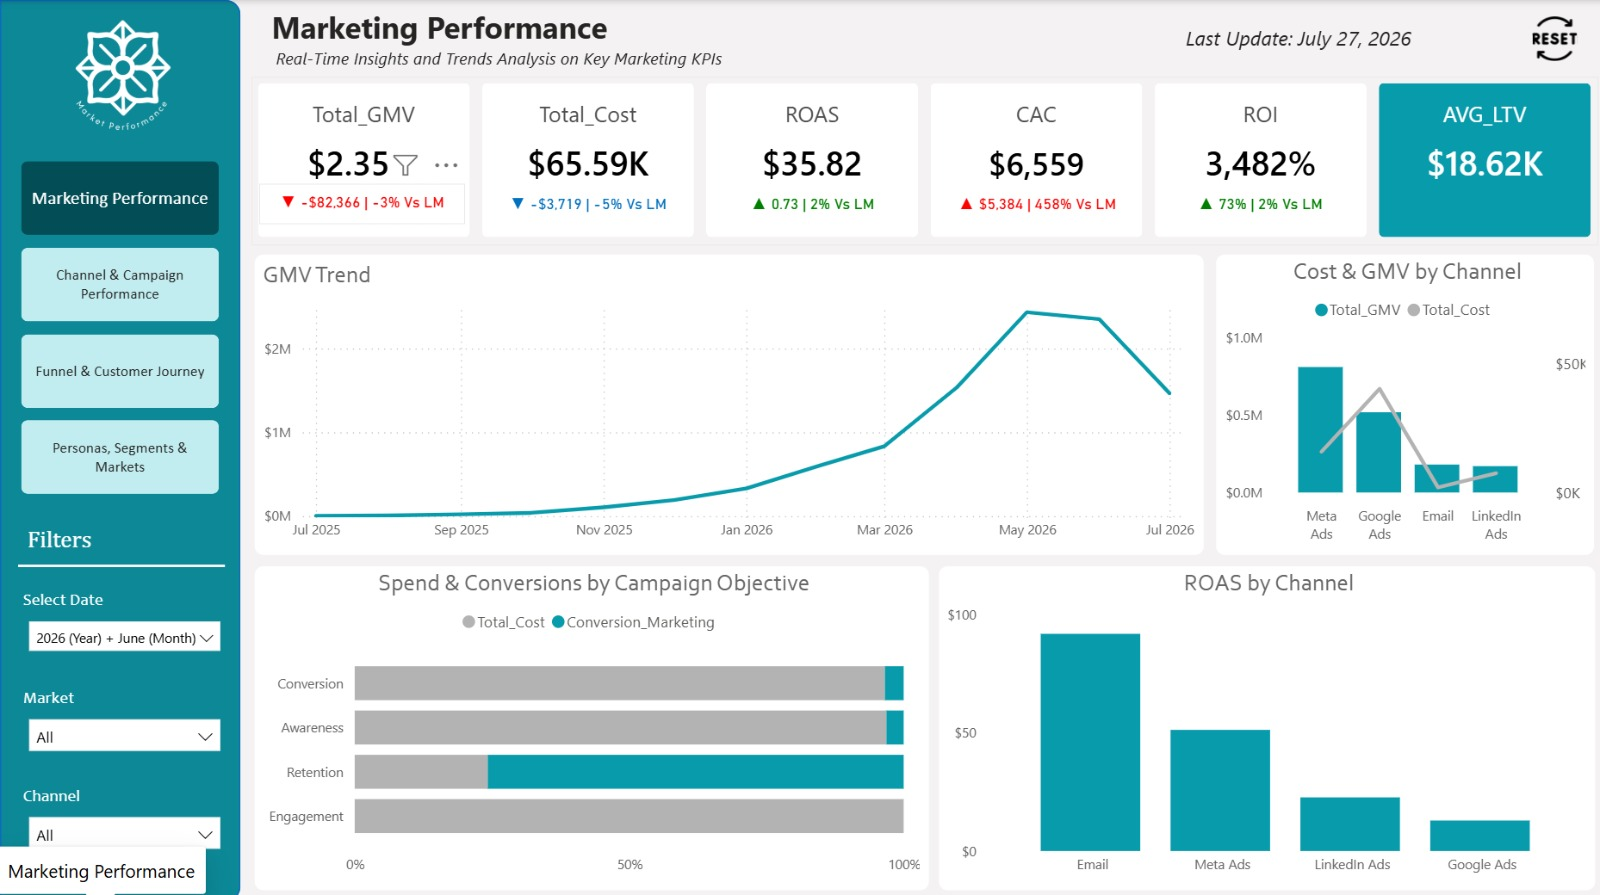

The page's visual inventory and layout, read from the dashboard file:
{"tool":"powerbi","page":{"name":"Marketing Performance","canvas":[1280,720],"ordinal":0},"visuals":[{"type":"shape","box":[0,0,192,720],"z":0,"group":"g4"},{"type":"group","id":"g1","title":"Group 3","box":[200.6,61.7,1076.5,133.9],"z":0,"group":"g3"},{"type":"group","id":"g2","title":"Group 2","box":[200.6,61.7,1076.5,133.9],"z":0,"group":"g1"},{"type":"lineChart","title":"GMV Trend","fields":{"Category":["Calendar.Date.Variation.Date Hierarchy.Year","Calendar.Date.Variation.Date Hierarchy.Month"],"Y":["AA_Measures.Total_GMV"]},"box":[203.5,203.5,757.5,240.3],"z":0},{"type":"cardVisual","fields":{"Data":["AA_Measures.Total_GMV","AA_Measures.Total_Cost","AA_Measures.Overall ROAS","AA_Measures.Overall_CAC","AA_Measures.Overall_ROI","AA_Measures.AVG_Merchant_LTV"]},"box":[200.6,61.7,1076.5,133.9],"z":1000,"group":"g7"},{"type":"card","fields":{"Values":["A_label.ROAS_Variance_Lable"]},"box":[565.9,148.3,164.1,32],"z":1000,"group":"g1"},{"type":"card","fields":{"Values":["A_label.CAC_Variance_Label"]},"box":[745.7,148.3,164.1,32],"z":1000,"group":"g3"},{"type":"clusteredColumnChart","title":"ROAS by Channel","fields":{"Category":["ChannelDim.Channel"],"Y":["AA_Measures.Overall_ROAS"]},"box":[749.6,452.9,523.8,258.6],"z":1000},{"type":"lineClusteredColumnComboChart","title":"Cost & GMV by Channel","fields":{"Category":["ChannelDim.Channel"],"Y":["AA_Measures.Total_GMV"],"Y2":["AA_Measures.Total_Cost"]},"box":[971.5,203.5,302,240.3],"z":2000},{"type":"hundredPercentStackedBarChart","title":"Spend & Conversions by Campaign Objective","fields":{"Category":["MarketingActivity.CampaignObjective"],"Y":["AA_Measures.Total_Cost","AA_Measures.Conversion_Marketing"]},"box":[203.5,452.9,538.3,258.6],"z":3000},{"type":"textbox","box":[211.4,0,399.1,69.6],"z":4000},{"type":"textbox","box":[937.4,14.4,203.5,34.1],"z":5000},{"type":"actionButton","box":[1210.5,0,63,61.7],"z":6000},{"type":"slicer","title":"Select Date","fields":{"Values":["Calendar.Date.Variation.Date Hierarchy.Year","Calendar.Date.Variation.Date Hierarchy.Month"]},"box":[7.9,466.1,177.2,65.6],"z":6500,"group":"g4"},{"type":"group","id":"g3","title":"Group 4","box":[200.6,61.7,1076.5,133.9],"z":7000,"group":"g6"},{"type":"slicer","title":"Market","fields":{"Values":["Markets.Country"]},"box":[7.9,543.5,177.2,65.6],"z":7000,"group":"g4"},{"type":"group","id":"g4","title":"Group 5","box":[0,0,192,720],"z":7500,"group":"g5"},{"type":"slicer","title":"Channel","fields":{"Values":["ChannelDim.Channel"]},"box":[7.9,622.3,177.2,65.6],"z":7500,"group":"g4"},{"type":"group","id":"g5","title":"Group 6","box":[0,0,192,720],"z":8000},{"type":"textbox","box":[17.1,416.2,116.8,36.8],"z":8000,"group":"g4"},{"type":"shape","box":[14.4,449,165.4,6.6],"z":8500,"group":"g4"},{"type":"image","box":[39.4,15.8,114.2,90.6],"z":9000,"group":"g4"},{"type":"card","fields":{"Values":["A_label.ROI_Variance_Label"]},"box":[924.3,148.3,164.1,32],"z":9000,"group":"g6"},{"type":"group","id":"g6","title":"Group 7","box":[200.6,61.7,1076.5,133.9],"z":9001},{"type":"pageNavigator","box":[17.1,128.7,158.9,269.1],"z":12000,"group":"g5"},{"type":"group","id":"g7","title":"Group 1","box":[200.6,61.7,1076.5,133.9],"z":13000,"group":"g2"},{"type":"card","fields":{"Values":["A_label.GMV_Variance_Label"]},"box":[207.2,147,164.1,32.8],"z":14000,"group":"g7"},{"type":"card","fields":{"Values":["A_label.PreviousCost"]},"box":[387.3,148.3,164.1,32],"z":15001,"group":"g2"}]}

Visuals, with their boxes on the page's 1280x720 design canvas (x1, y1, x2, y2). These are canvas units, not pixel positions in the 1600x895 screenshot, which may show the page scaled, cropped or inside an application window:
shape: bbox=[0, 0, 192, 720]
"Group 3" group: bbox=[201, 62, 1277, 196]
"Group 2" group: bbox=[201, 62, 1277, 196]
"GMV Trend" lineChart: bbox=[204, 204, 961, 444]
cardVisual - AA_Measures.Total_GMV x AA_Measures.Total_Cost: bbox=[201, 62, 1277, 196]
card - A_label.ROAS_Variance_Lable: bbox=[566, 148, 730, 180]
card - A_label.CAC_Variance_Label: bbox=[746, 148, 910, 180]
"ROAS by Channel" clusteredColumnChart: bbox=[750, 453, 1273, 712]
"Cost & GMV by Channel" lineClusteredColumnComboChart: bbox=[972, 204, 1274, 444]
"Spend & Conversions by Campaign Objective" hundredPercentStackedBarChart: bbox=[204, 453, 742, 712]
textbox: bbox=[211, 0, 610, 70]
textbox: bbox=[937, 14, 1141, 48]
actionButton: bbox=[1210, 0, 1274, 62]
"Select Date" slicer: bbox=[8, 466, 185, 532]
"Group 4" group: bbox=[201, 62, 1277, 196]
"Market" slicer: bbox=[8, 544, 185, 609]
"Group 5" group: bbox=[0, 0, 192, 720]
"Channel" slicer: bbox=[8, 622, 185, 688]
"Group 6" group: bbox=[0, 0, 192, 720]
textbox: bbox=[17, 416, 134, 453]
shape: bbox=[14, 449, 180, 456]
image: bbox=[39, 16, 154, 106]
card - A_label.ROI_Variance_Label: bbox=[924, 148, 1088, 180]
"Group 7" group: bbox=[201, 62, 1277, 196]
pageNavigator: bbox=[17, 129, 176, 398]
"Group 1" group: bbox=[201, 62, 1277, 196]
card - A_label.GMV_Variance_Label: bbox=[207, 147, 371, 180]
card - A_label.PreviousCost: bbox=[387, 148, 551, 180]
